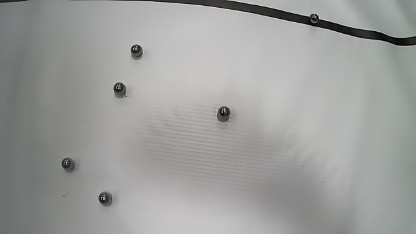ironball: (98, 191, 112, 206), (217, 106, 230, 122), (130, 44, 143, 59), (113, 82, 126, 97), (61, 157, 74, 171), (309, 13, 319, 24)
